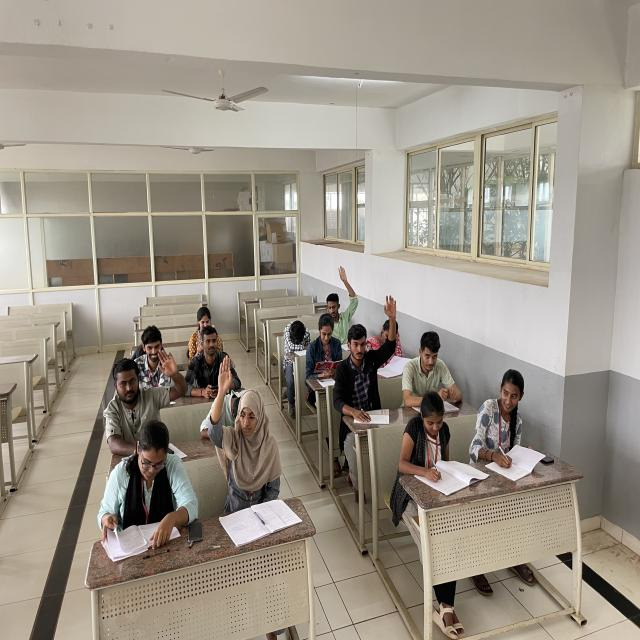Hand Rising: (205, 357, 282, 506), (99, 349, 188, 440), (339, 294, 400, 404), (320, 262, 357, 331)
Reading: (97, 419, 196, 545), (310, 317, 346, 381)
Sleeping: (282, 317, 314, 361)
Writing: (394, 390, 478, 486), (475, 363, 544, 474)
